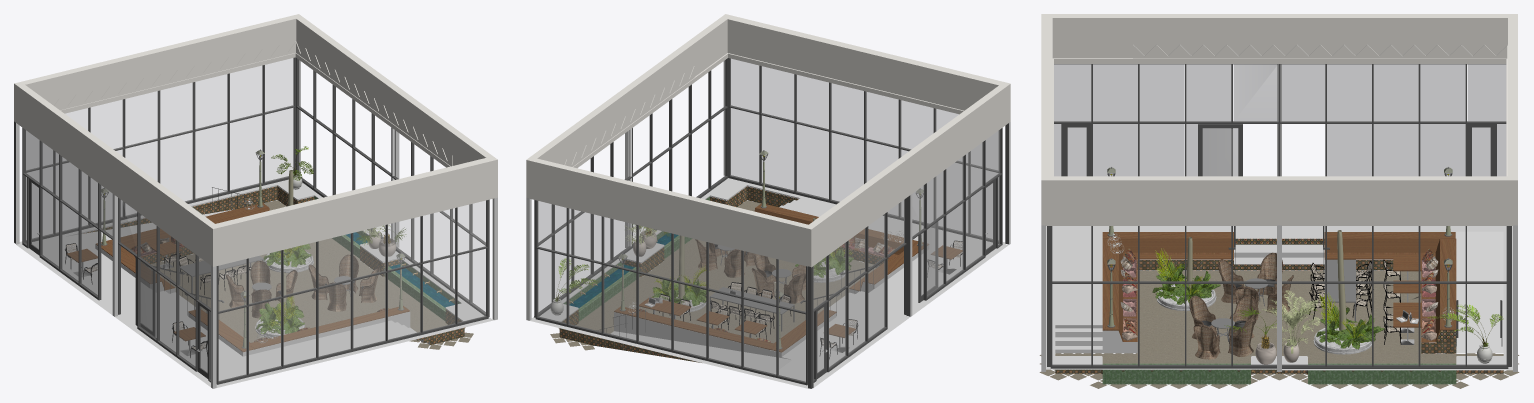
File: dedicated_dining_04.glb
3 renders of one model, left to right at view 1: azimuth 30°, elevation 25°; view 2: azimuth 150°, elevation 25°; view 3: azimuth 270°, elevation 25°, orthographic. The views are drawn at different scales.
Visible parts, largest first — view 1: glass_window; view 2: glass_window; view 3: glass_window.
Boxes of the visible parts, bbox=[...] form: glass_window: bbox=[14, 14, 497, 388]; glass_window: bbox=[526, 14, 1010, 388]; glass_window: bbox=[1039, 14, 1519, 388].
Size of the model in its own units: 499 by 299 by 608.
Materials: 240 (214 with a texture image).
